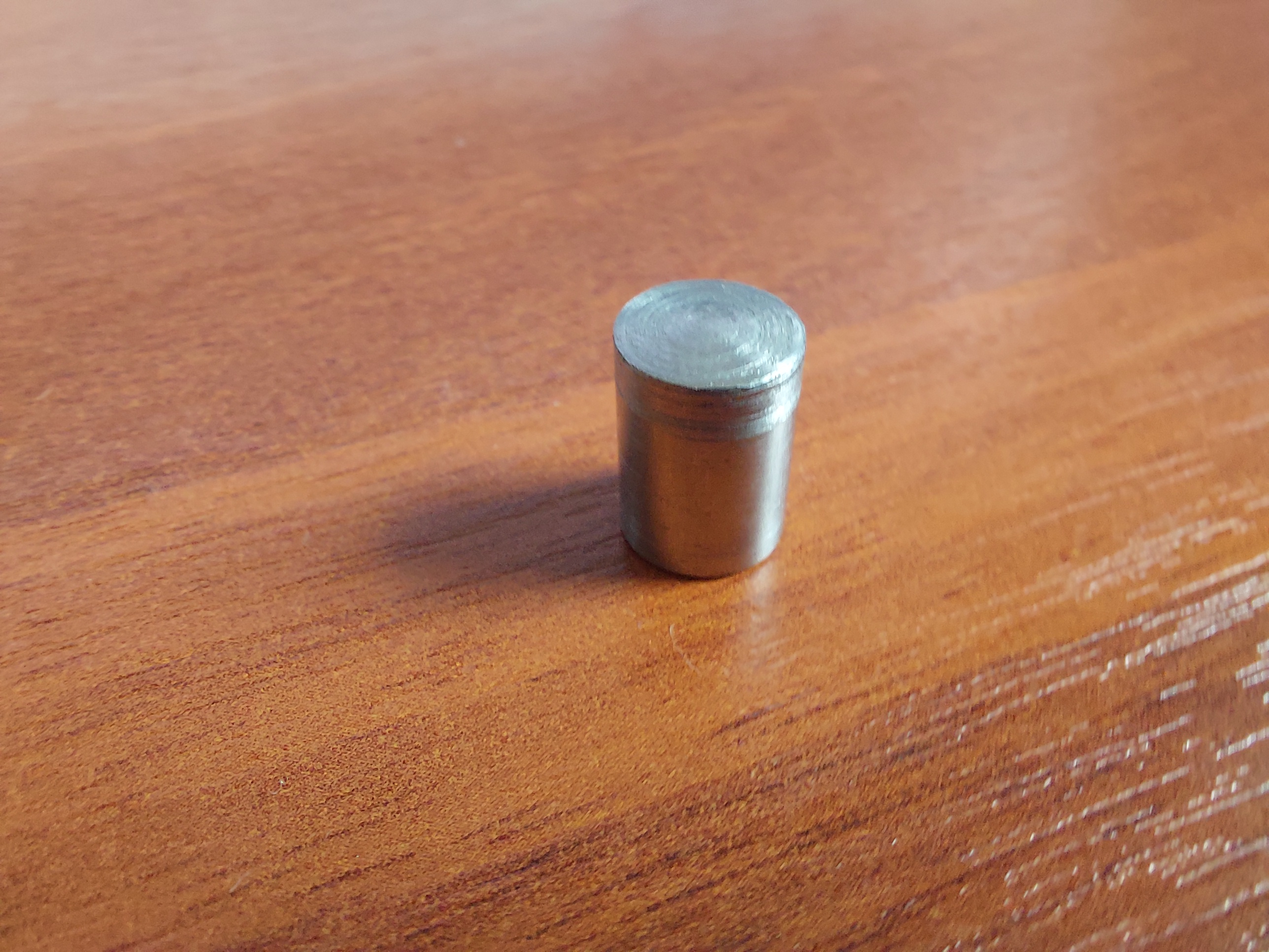tablet: (600, 270, 809, 579)
